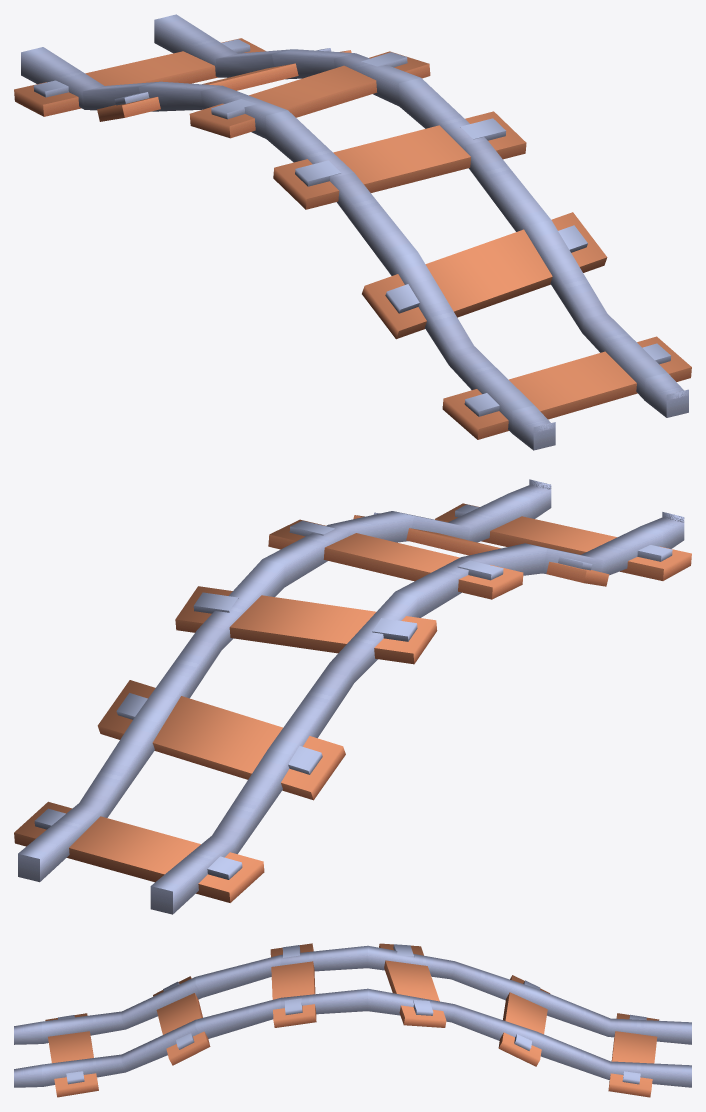
File: kenney-train-railroad-damaged-straight-bump-up.glb
3 renders of one model, top to bottom at view 1: azimuth 30°, elevation 25°; view 2: azimuth 150°, elevation 25°; view 3: azimuth 270°, elevation 25°, orthographic. The views are drawn at different scales.
Visible parts, largest first — view 1: railroad-damaged-straight-bump-up; view 2: railroad-damaged-straight-bump-up; view 3: railroad-damaged-straight-bump-up.
Part boxes in pixels (x1,y1,x2,y2): railroad-damaged-straight-bump-up: (14,14,691,450); railroad-damaged-straight-bump-up: (14,479,691,914); railroad-damaged-straight-bump-up: (14,943,691,1097).
Bounding box in the file's own units: 1.03 × 0.5986 × 4.
1 material, 1 textured.
